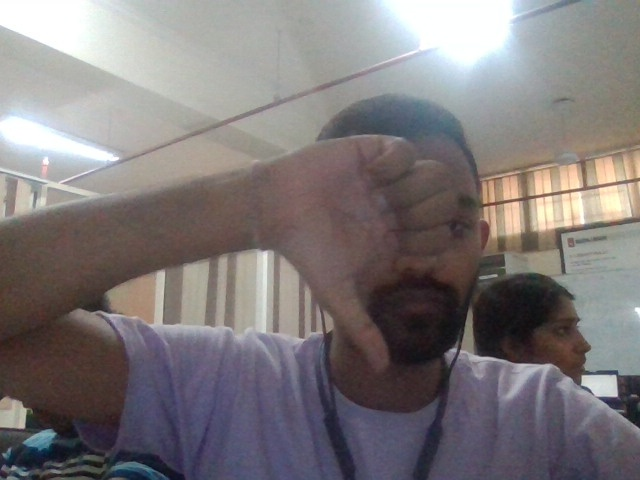No: (265, 130, 457, 373)
